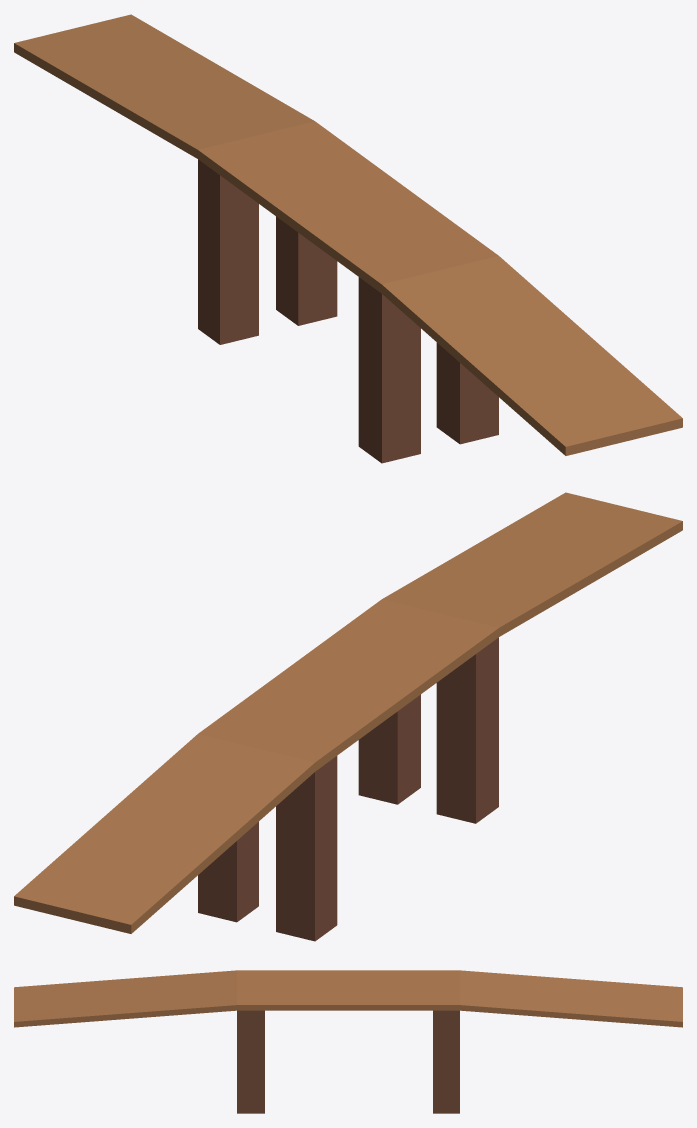
Rendered from jembatan.fbx.
The picture shows the model from 3 angles, top to bottom: view 1: azimuth 30°, elevation 25°; view 2: azimuth 150°, elevation 25°; view 3: azimuth 270°, elevation 25°; orthographic projection. The views are drawn at different scales.
Parts seen in each view (by area): view 1: Plane.003, Plane.010, Plane.009, Plane.008, Plane.011; view 2: Plane.003, Plane.010, Plane.009, Plane.011, Plane.008; view 3: Plane.003, Plane.011, Plane.008.
Boxes of the visible parts, box(x1,y1,x2,y2) form: Plane.003: box(14, 14, 682, 455); Plane.010: box(358, 277, 420, 463); Plane.009: box(198, 159, 258, 344); Plane.008: box(276, 216, 337, 325); Plane.011: box(436, 342, 498, 444); Plane.003: box(14, 492, 682, 933); Plane.010: box(436, 637, 498, 823); Plane.009: box(276, 756, 337, 941); Plane.011: box(358, 694, 420, 804); Plane.008: box(198, 822, 258, 922); Plane.003: box(14, 970, 682, 1027); Plane.011: box(237, 1010, 264, 1113); Plane.008: box(433, 1010, 459, 1113).
Size of the model in its own units: 399 by 583 by 3255.
